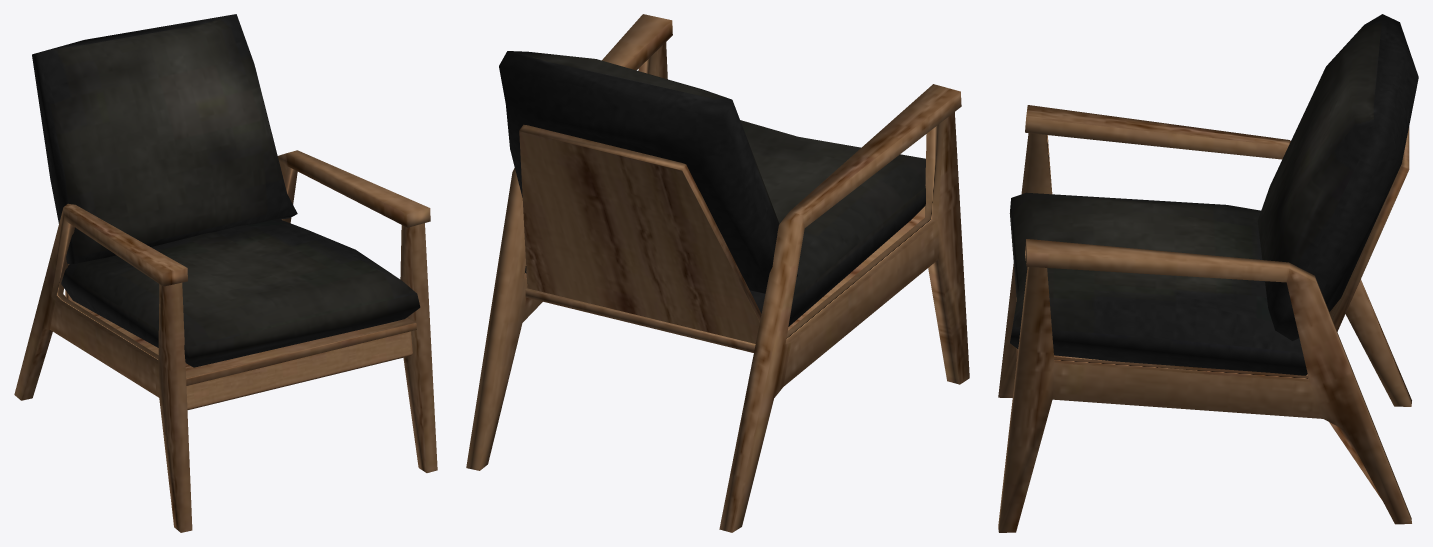
The model's file is modern_arm_chair_01.glb.
3 views of the same model, side by side, from view 1: azimuth 30°, elevation 25°; view 2: azimuth 150°, elevation 25°; view 3: azimuth 270°, elevation 25° (orthographic). The views are drawn at different scales.
Parts seen in each view (by area): view 1: modern_arm_chair_01; view 2: modern_arm_chair_01; view 3: modern_arm_chair_01.
Part boxes in pixels (bbox=[...]): modern_arm_chair_01: bbox=[14, 14, 437, 532]; modern_arm_chair_01: bbox=[466, 14, 969, 532]; modern_arm_chair_01: bbox=[998, 14, 1418, 532].
Bounding box in the file's own units: 0.8166 × 1.02 × 0.9863.
Materials: 2 (2 with a texture image).
